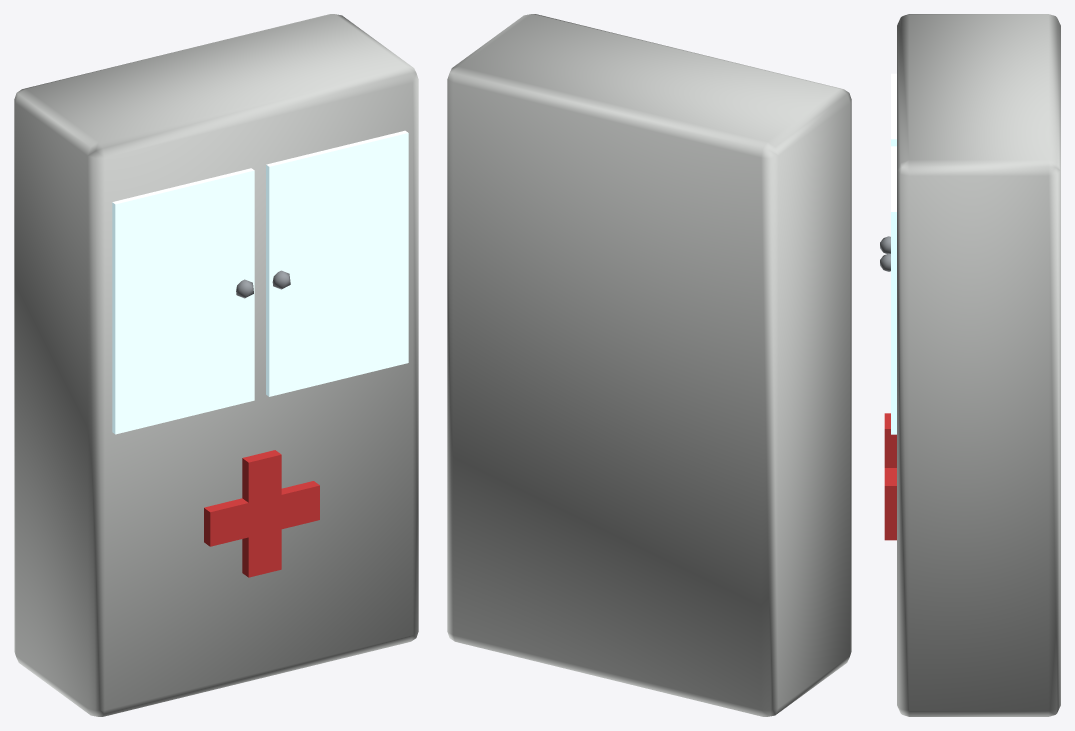
Rendered from v_furn_cabinet.glb.
The picture shows the model from 3 angles, left to right: view 1: azimuth 30°, elevation 25°; view 2: azimuth 150°, elevation 25°; view 3: azimuth 270°, elevation 25°; orthographic projection. The views are drawn at different scales.
Parts seen in each view (by area): view 1: Cabinet; view 2: Cabinet; view 3: Cabinet.
Part boxes in pixels (left/top/right/bottom): Cabinet: left=14, top=14, right=418, bottom=716; Cabinet: left=447, top=14, right=851, bottom=716; Cabinet: left=880, top=14, right=1060, bottom=716.
Size of the model in its own units: 0.9 by 1.5 by 0.4413.
